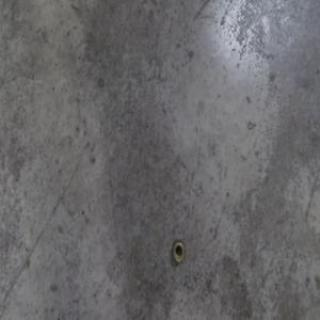Nuttrack_idkeyframe: (171, 237, 184, 263)
